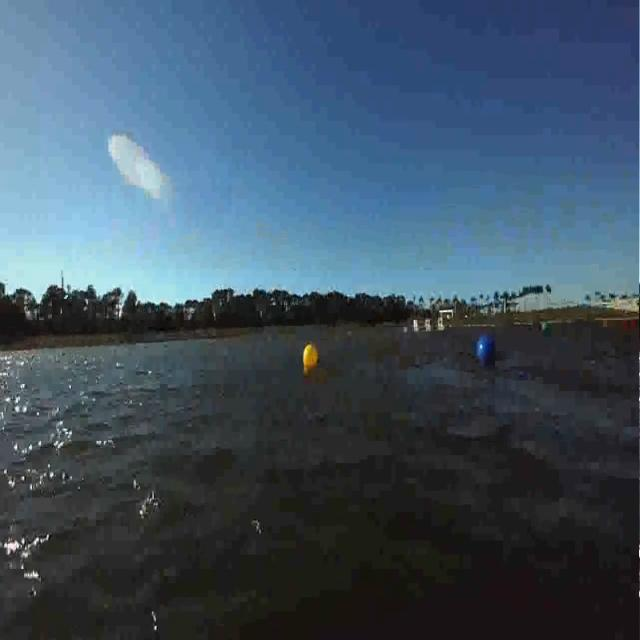blue-buoy: (477, 337, 497, 367)
yellow-buoy: (304, 342, 319, 371)
